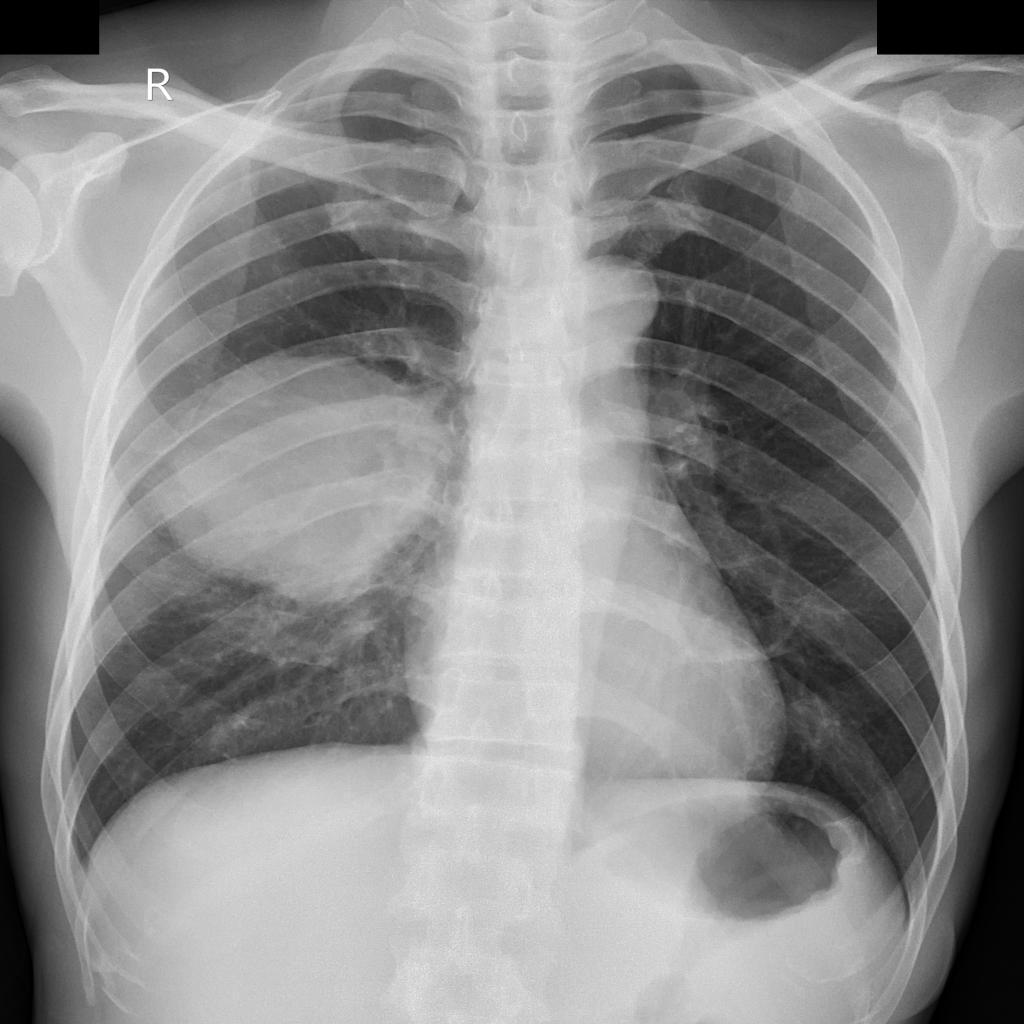Nodule: (148, 353, 456, 610), (160, 356, 452, 600), (159, 358, 444, 602)
